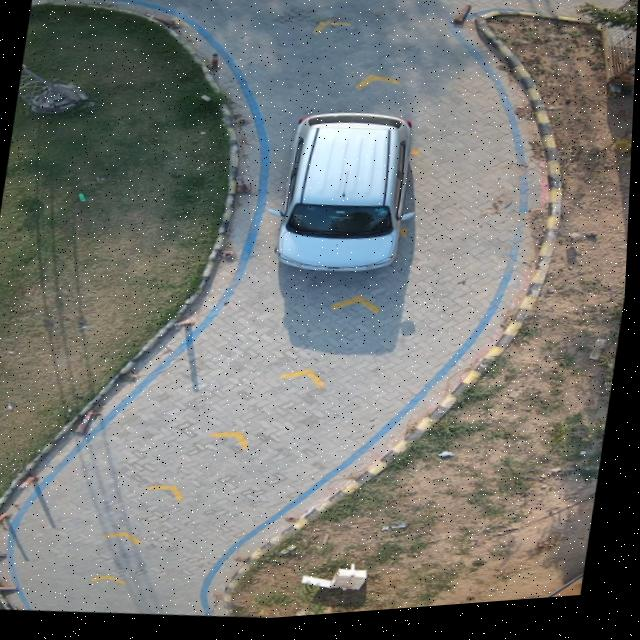car: (272, 116, 413, 276)
